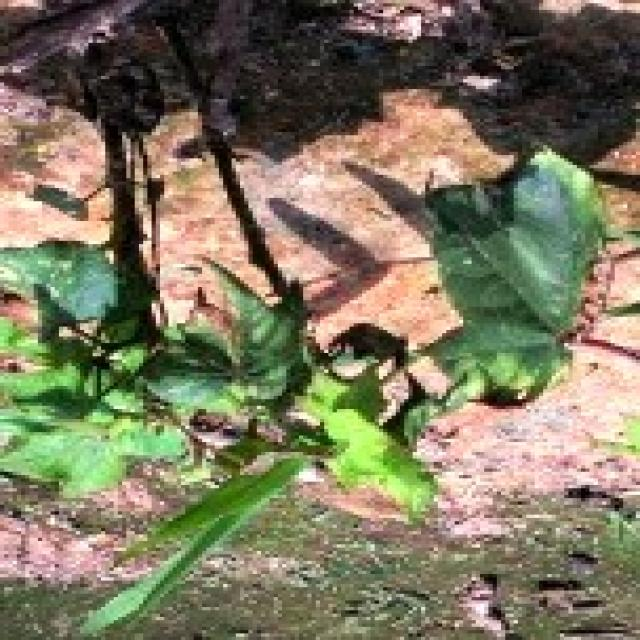Fusarium Wilt: (42, 4, 538, 612)
